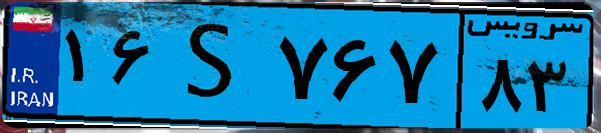1: (57, 26, 110, 100)
3: (525, 38, 570, 115)
6: (330, 28, 385, 110), (110, 28, 158, 98)
7: (270, 28, 330, 110), (385, 28, 445, 110)
8: (475, 38, 525, 113)
S: (158, 12, 270, 120)
